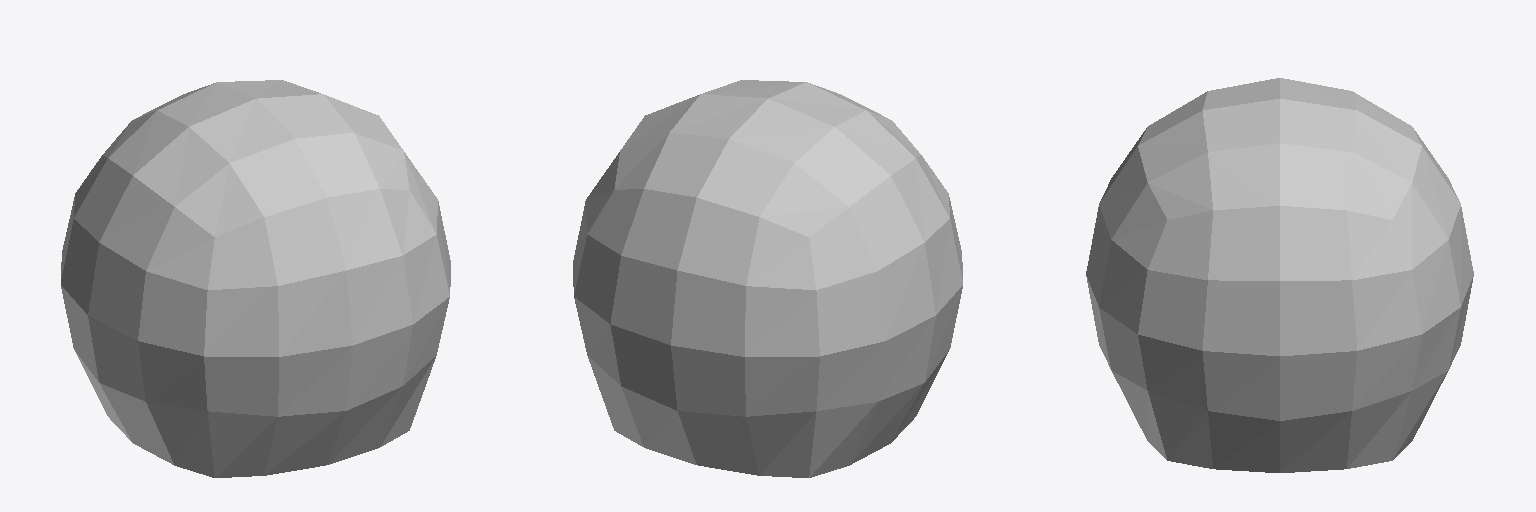
File: Bush.obj
3 views of the same model, side by side, from view 1: azimuth 30°, elevation 25°; view 2: azimuth 150°, elevation 25°; view 3: azimuth 270°, elevation 25° (orthographic).
Parts seen in each view (by area): view 1: Bush1; view 2: Bush1; view 3: Bush1.
Boxes of the visible parts, box(x1,y1,x2,y2) form: Bush1: box(61, 80, 450, 477); Bush1: box(573, 80, 962, 477); Bush1: box(1086, 78, 1473, 472).
Size of the model in its own units: 1.84 by 1.65 by 1.84.